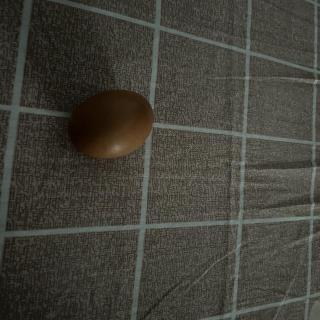Telur: (69, 88, 157, 164)
